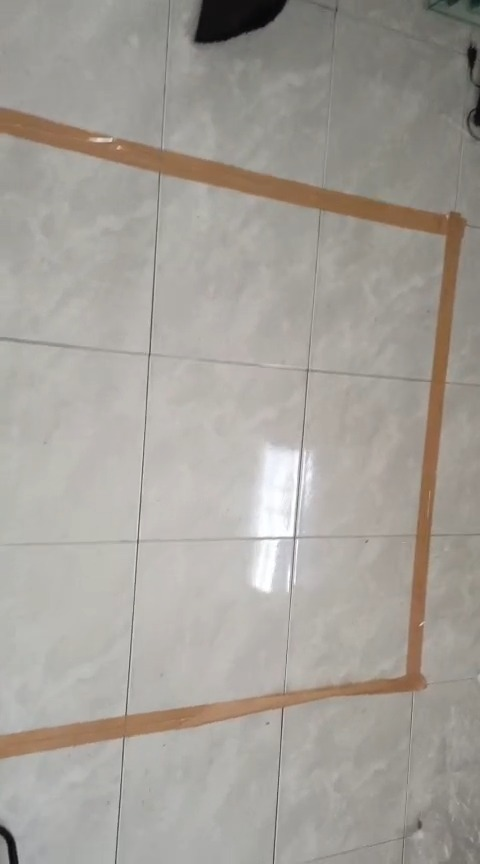floor marking: (0, 109, 464, 756)
